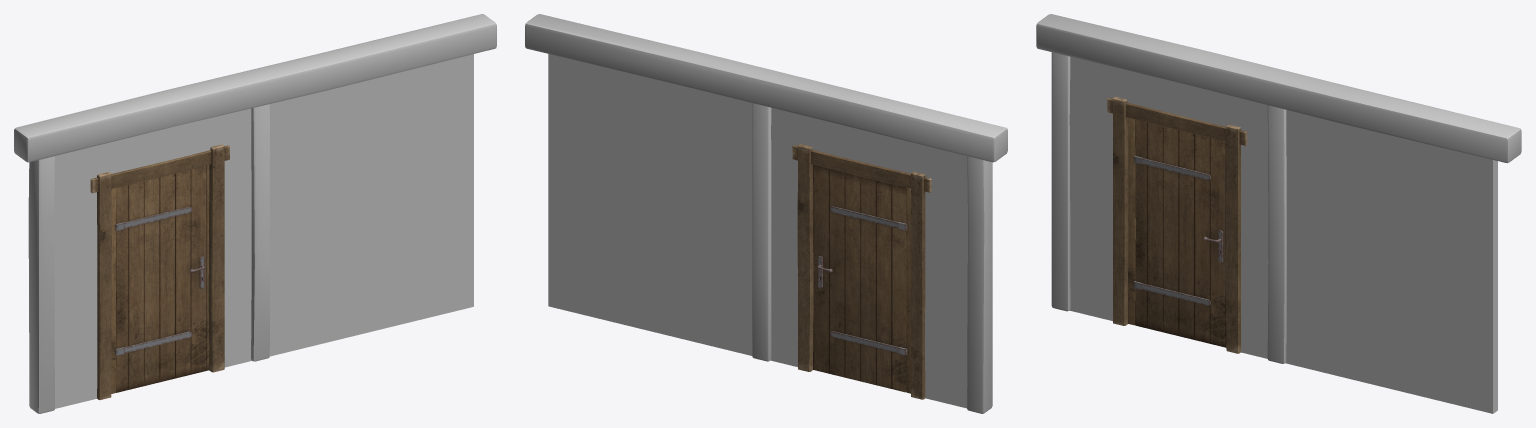
File: SM_WallElement_07.FBX
The picture shows the model from 3 angles, left to right: view 1: azimuth 30°, elevation 25°; view 2: azimuth 150°, elevation 25°; view 3: azimuth 330°, elevation 25°; orthographic projection.
Visible parts, largest first — view 1: SM_WallElement_07, SM_Door_01; view 2: SM_WallElement_07, SM_Door_01; view 3: SM_WallElement_07, SM_Door_01.
Part boxes in pixels (box(x1,y1,x2,y2)): SM_WallElement_07: box(14, 14, 496, 413); SM_Door_01: box(115, 165, 209, 392); SM_WallElement_07: box(525, 14, 1007, 413); SM_Door_01: box(813, 164, 907, 392); SM_WallElement_07: box(1036, 14, 1521, 413); SM_Door_01: box(1134, 119, 1226, 347).
Bounding box in the file's own units: 5.47 × 3.16 × 0.3119.
